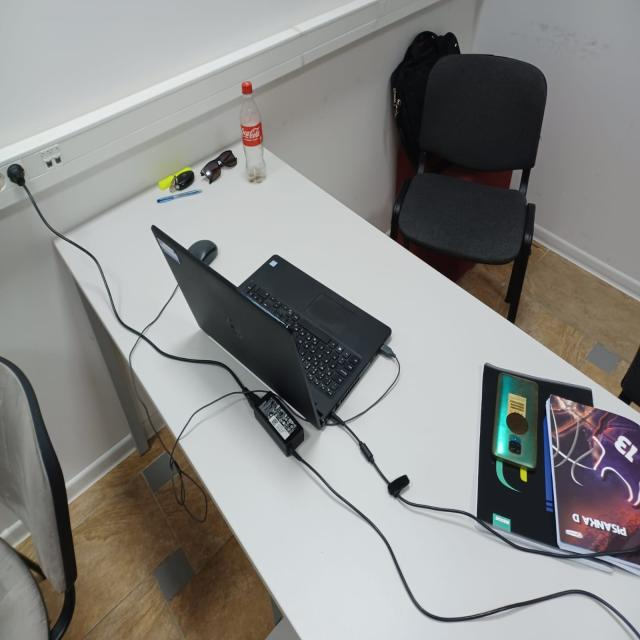Laptops_bbox: (146, 170, 416, 453)
